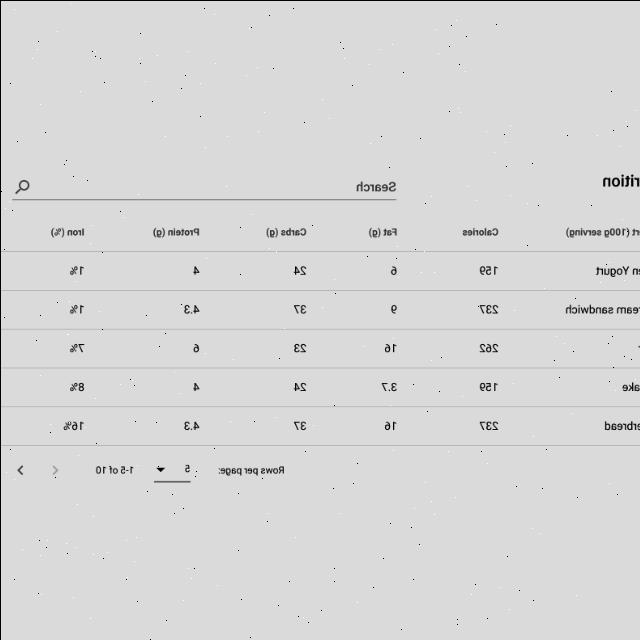QLabel: (602, 171, 640, 187)
VDataTable: (0, 216, 640, 482)
VTextField: (9, 174, 398, 202)
